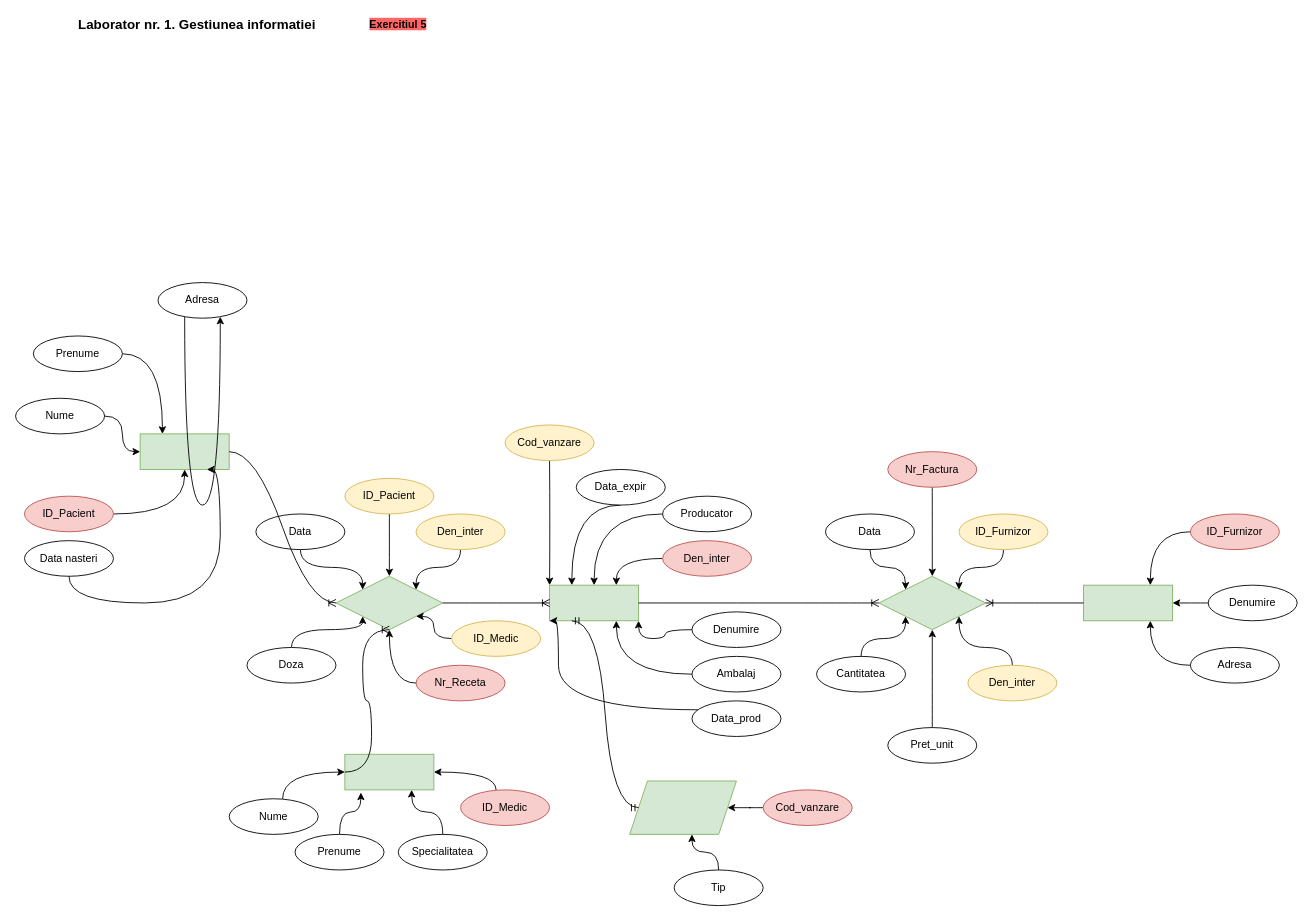
Some shapes in this 1313 by 921 pixel diagram are drawn without their labels. Here are the shapes that lost their labels. From the top down, the centre of each, then its label:
At [184,451]: "Pacienti".
At [389,602]: "Receta".
At [594,602]: "Medicamente".
At [932,602]: "Livreaza".
At [1128,602]: "Furnizor".
At [389,771]: "Medici".
At [682,807]: "Tip_vanzare".
